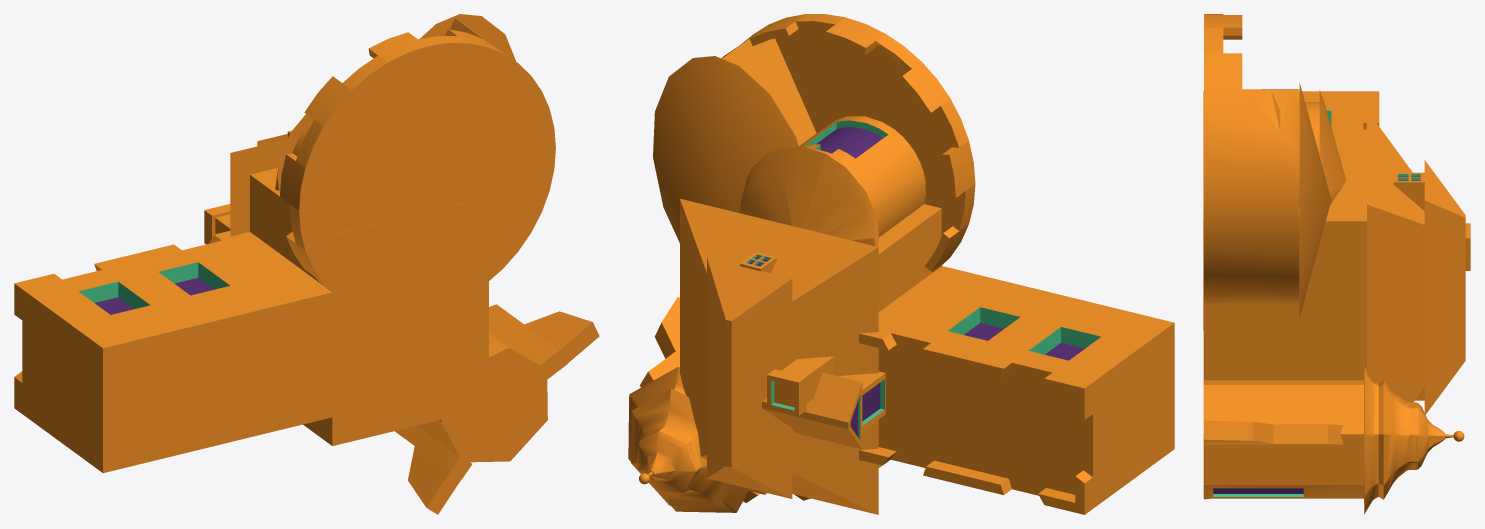
The model's file is drukarnia trebinskichV2.fbx.
The picture shows the model from 3 angles, left to right: view 1: azimuth 30°, elevation 25°; view 2: azimuth 150°, elevation 25°; view 3: azimuth 270°, elevation 25°; orthographic projection. The views are drawn at different scales.
Parts seen in each view (by area): view 1: duzy_dom_Cube_001; view 2: duzy_dom_Cube_001; view 3: duzy_dom_Cube_001.
Boxes of the visible parts, x1=… form: duzy_dom_Cube_001: x1=14, y1=14, x2=599, y2=514; duzy_dom_Cube_001: x1=628, y1=14, x2=1174, y2=514; duzy_dom_Cube_001: x1=1203, y1=14, x2=1470, y2=514.
Bounding box in the file's own units: 39.07 × 35.39 × 18.36.
Materials: 1 (1 with a texture image).
